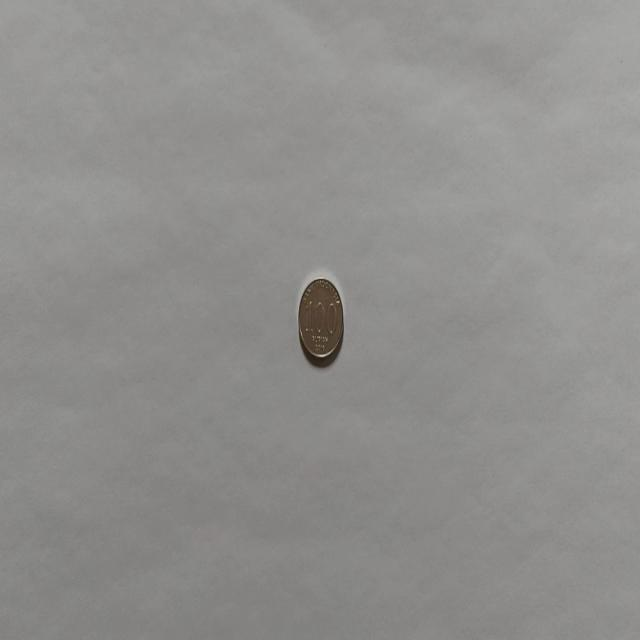seratus rupiah: (297, 276, 344, 364)
